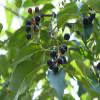Cherry leaf: (8, 60, 43, 99), (68, 60, 99, 99), (45, 64, 70, 99), (11, 40, 44, 66), (54, 2, 80, 33)
